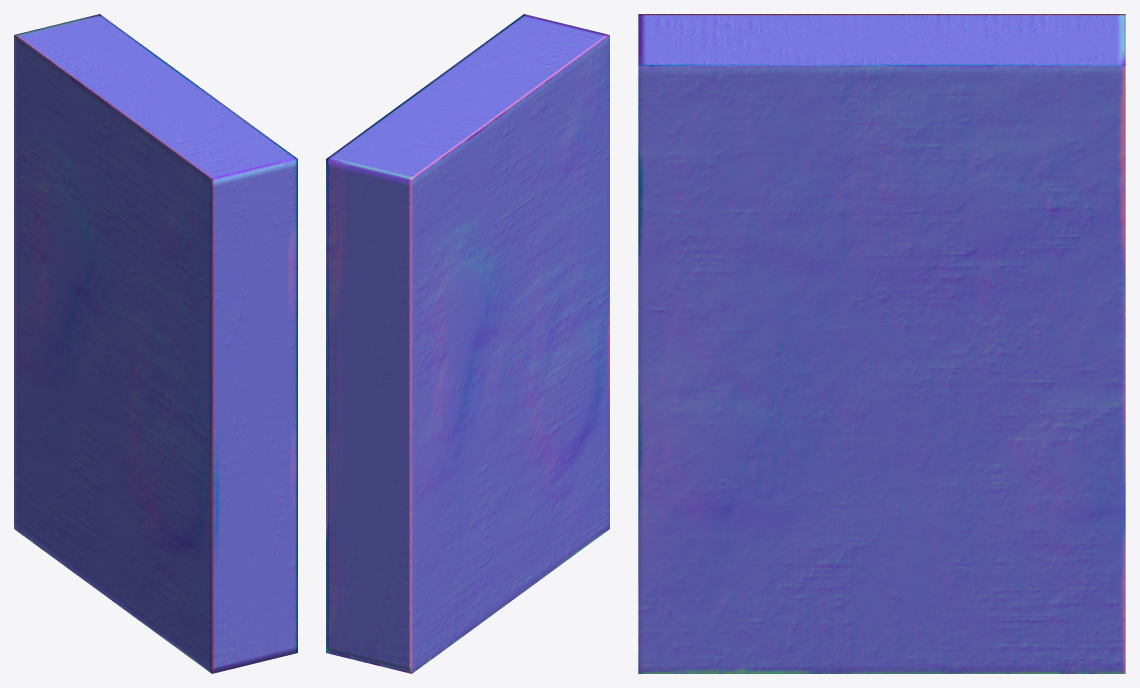
The model's file is Carved_wall_lo17_5.fbx.
The picture shows the model from 3 angles, left to right: view 1: azimuth 30°, elevation 25°; view 2: azimuth 150°, elevation 25°; view 3: azimuth 270°, elevation 25°; orthographic projection. The views are drawn at different scales.
Visible parts, largest first — view 1: Carved_wall_lo17_5; view 2: Carved_wall_lo17_5; view 3: Carved_wall_lo17_5.
Part boxes in pixels (left/top/right/bottom): Carved_wall_lo17_5: left=14, top=14, right=297, bottom=673; Carved_wall_lo17_5: left=326, top=14, right=609, bottom=673; Carved_wall_lo17_5: left=638, top=14, right=1125, bottom=673.
Size of the model in its own units: 75.74 by 416 by 302.
